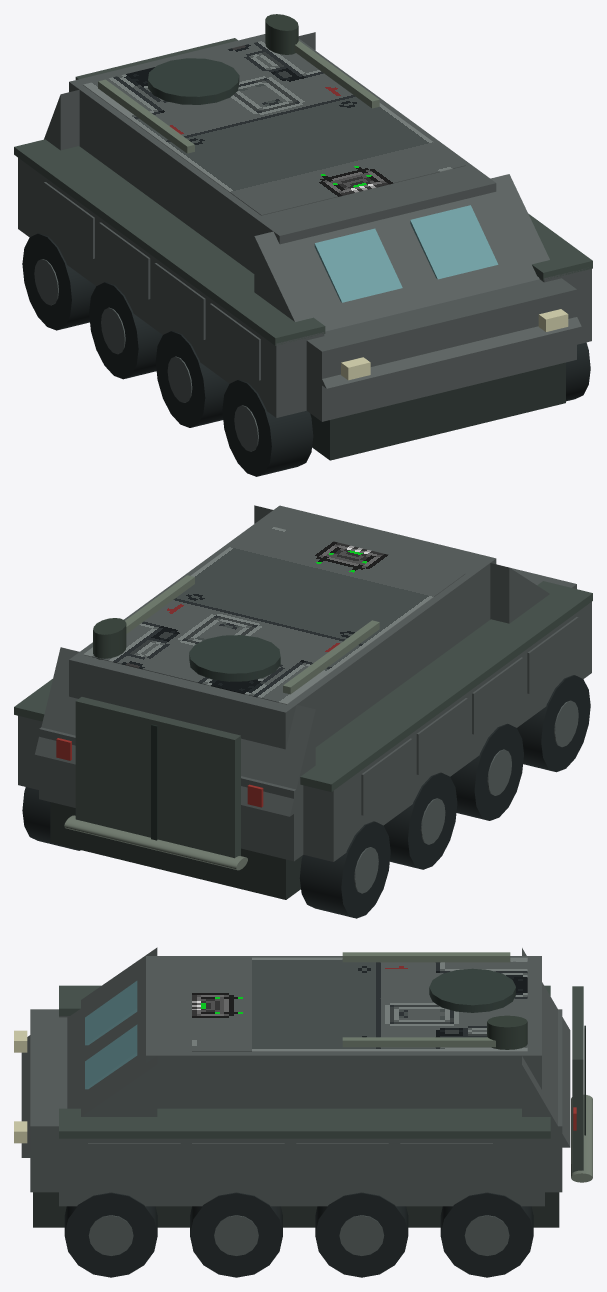
The model's file is CMU3DReduxVehicleAPCCommand.glb.
3 renders of one model, top to bottom at view 1: azimuth 30°, elevation 25°; view 2: azimuth 150°, elevation 25°; view 3: azimuth 270°, elevation 25°, orthographic. The views are drawn at different scales.
Visible parts, largest first — view 1: source compartment roof, upper troop compartment, sloped front armor, lower personnel hull, rubber road tire (×5), upper fender (×2), side sponson (×2), sealed armored belly, side armor plate (×4), driver vision glass (×2), rear service hatch, recessed metal wheel hub (×4) (+4 smaller); view 2: source compartment roof, upper troop compartment, rear access ramp, rubber road tire (×5), upper fender (×2), side sponson (×2), side armor plate (×4), rear sloped armor, sealed armored belly, lower personnel hull, rear service hatch, recessed metal wheel hub (×4) (+5 smaller); view 3: upper troop compartment, source compartment roof, rubber road tire (×4), side sponson, upper fender (×2), side armor plate (×4), sloped front armor, lower personnel hull, recessed metal wheel hub (×4), rear sloped armor, sealed armored belly, roof handrail (×2) (+5 smaller).
Boxes of the visible parts, x1,y1,x2,y2 form: source compartment roof: (83, 40, 465, 215); upper troop compartment: (69, 34, 496, 273); sloped front armor: (254, 174, 581, 388); lower personnel hull: (306, 278, 576, 421); rubber road tire (×5): (22, 233, 590, 476); upper fender (×2): (14, 139, 592, 345); side sponson (×2): (18, 158, 591, 417); sealed armored belly: (310, 362, 565, 460); side armor plate (×4): (43, 182, 260, 380); driver vision glass (×2): (314, 205, 498, 302); rear service hatch: (148, 58, 239, 104); recessed metal wheel hub (×4): (34, 259, 258, 451); source compartment roof: (83, 524, 465, 704); upper troop compartment: (69, 505, 496, 749); rear access ramp: (75, 697, 240, 858); rubber road tire (×5): (22, 675, 590, 918); upper fender (×2): (14, 581, 592, 791); side sponson (×2): (18, 602, 591, 861); side armor plate (×4): (361, 617, 578, 815); rear sloped armor: (35, 647, 315, 816); sealed armored belly: (50, 802, 302, 899); lower personnel hull: (39, 567, 576, 861); rear service hatch: (189, 635, 280, 681); recessed metal wheel hub (×4): (354, 700, 578, 893); upper troop compartment: (146, 956, 541, 1108); source compartment roof: (192, 957, 527, 1051); rubber road tire (×4): (64, 1192, 533, 1277); side sponson: (59, 1138, 544, 1206); upper fender (×2): (59, 985, 550, 1138); side armor plate (×4): (88, 1143, 492, 1181); sloped front armor: (21, 947, 157, 1157); lower personnel hull: (30, 1009, 562, 1192); recessed metal wheel hub (×4): (88, 1215, 509, 1255); rear sloped armor: (522, 948, 570, 1147); sealed armored belly: (33, 1192, 559, 1227); roof handrail (×2): (342, 952, 510, 1047).
Bounding box in the file's own units: 2.39 × 1.69 × 3.97.
Materials: 15 (1 with a texture image).
